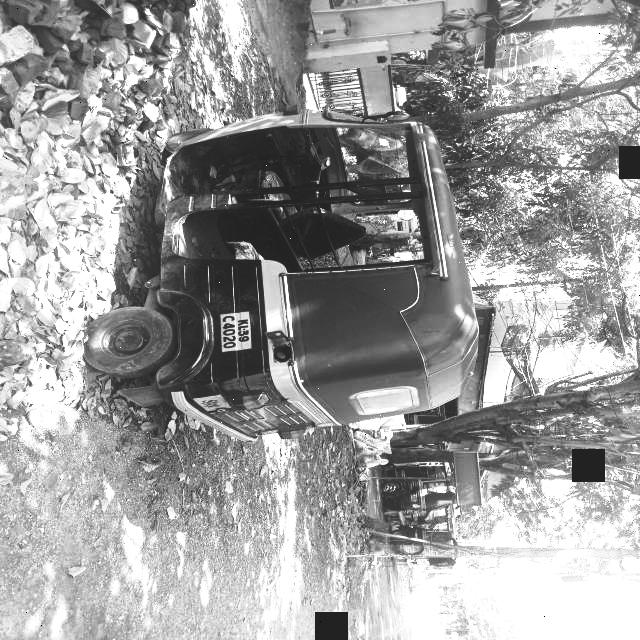Auto-Rickshaw: (99, 99, 503, 448)
